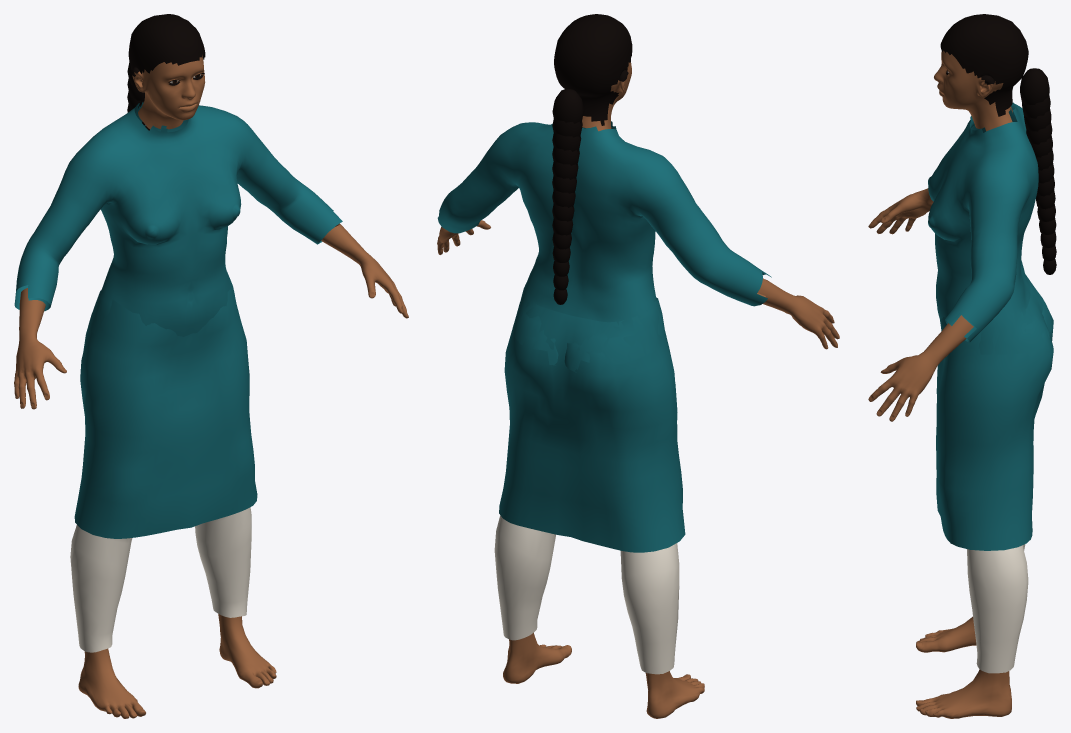
Rendered from protagonist_for_mixamo.fbx.
3 renders of one model, left to right at view 1: azimuth 30°, elevation 25°; view 2: azimuth 150°, elevation 25°; view 3: azimuth 270°, elevation 25°, orthographic.
Visible parts, largest first — view 1: body.001; view 2: body.001; view 3: body.001.
Part boxes in pixels (<box>): body.001: <box>14,14,408,718</box>; body.001: <box>437,14,839,718</box>; body.001: <box>868,14,1056,718</box>.
Size of the model in its own units: 97.03 by 159 by 40.87.
Materials: 6 (1 with a texture image).
